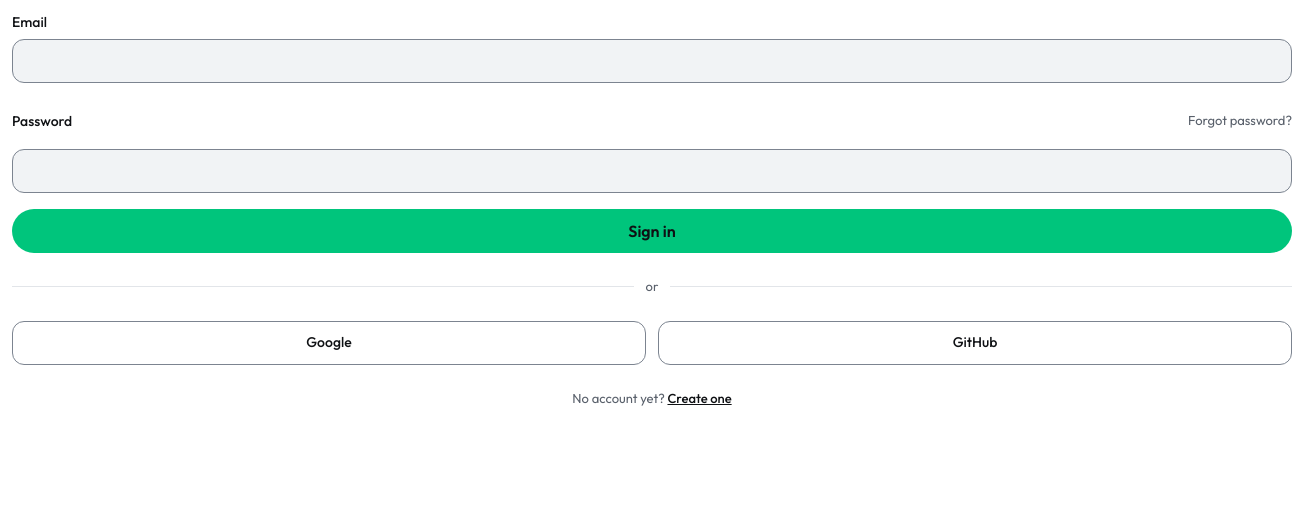
Test: LoginForm › shows the unverified message containing "verify your email" and verification link for needsVerification
Type "unverified@example.com" into the field labelled "Email". click: (652, 61)
box: [12, 39, 1292, 83]
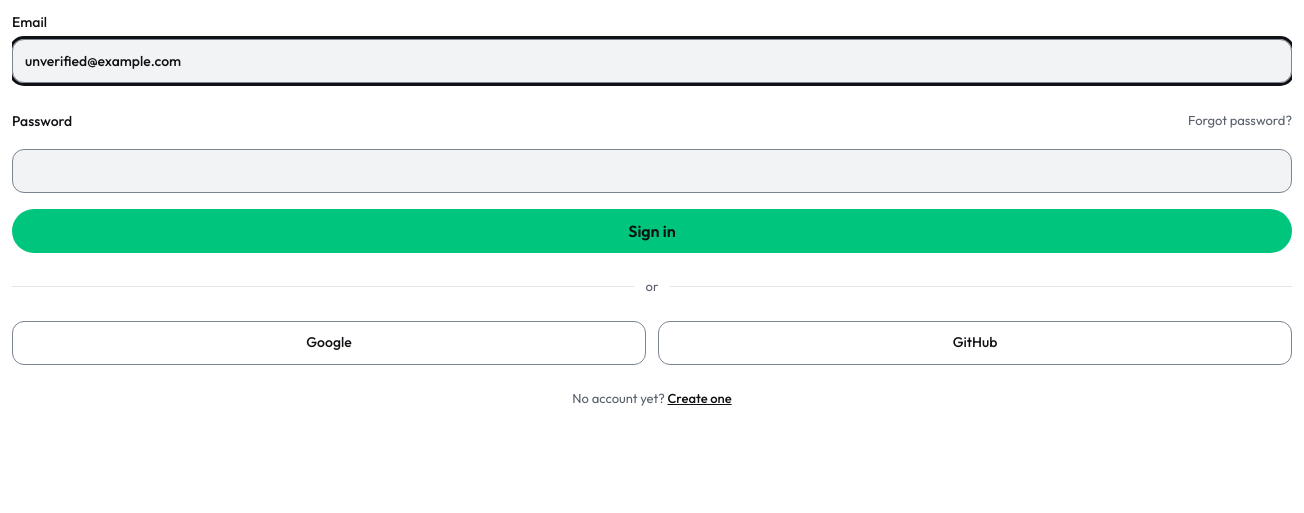
Type "password123" into the password field labelled "Password". click: (652, 171)
box: [12, 149, 1292, 193]
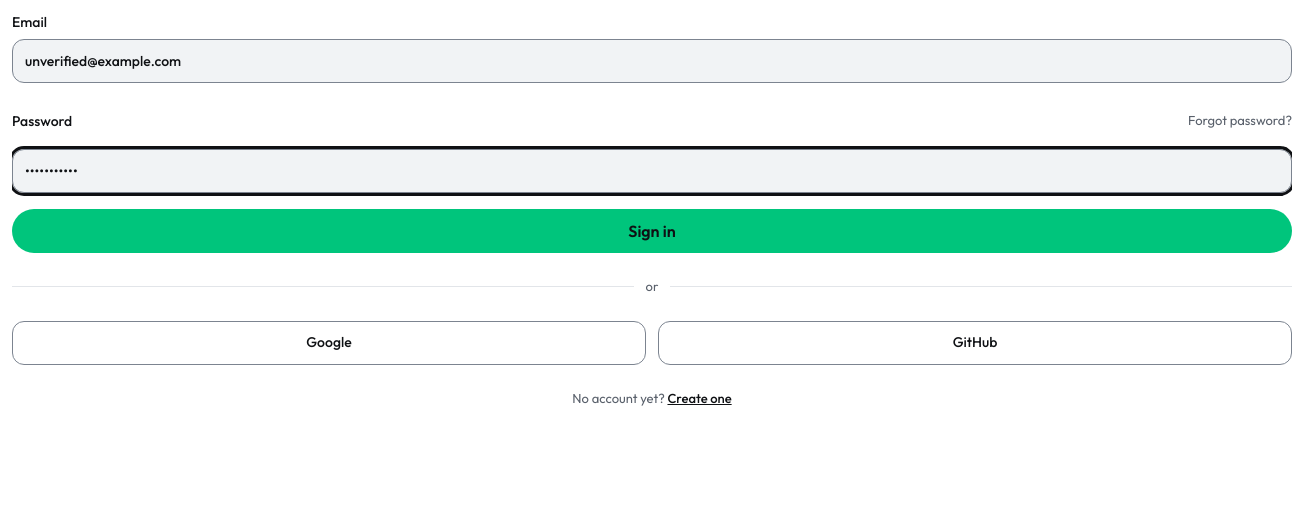
Click the button "Sign in". click: (652, 231)
box: [12, 209, 1292, 253]
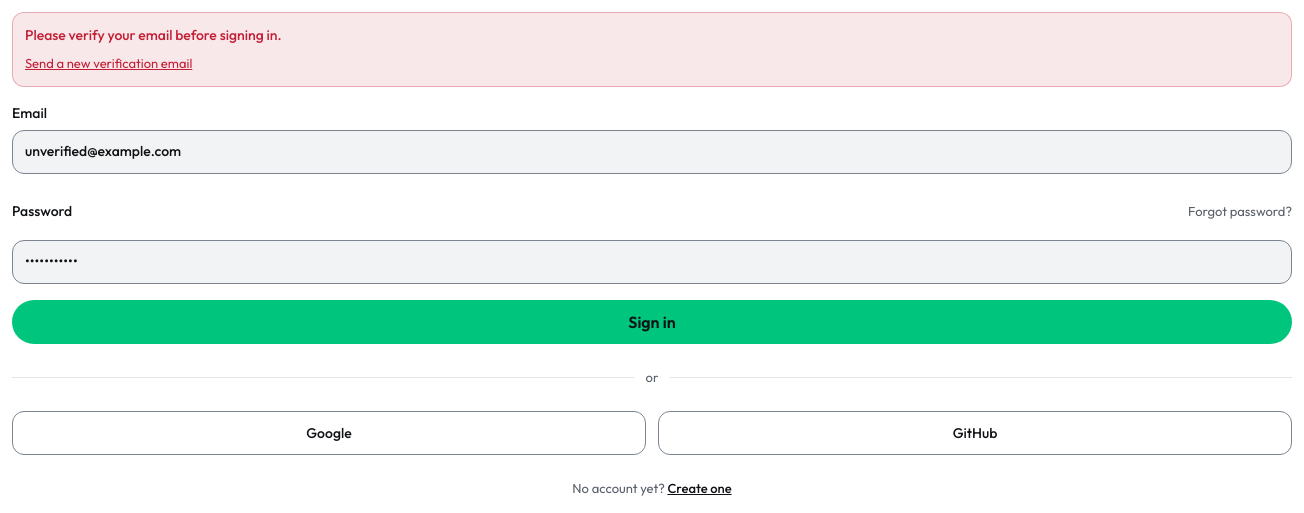
Expected: the message shows "verify your email", [25, 26, 282, 44]
Expected: the link "Send a new verification email" is shown, [25, 55, 192, 71]
